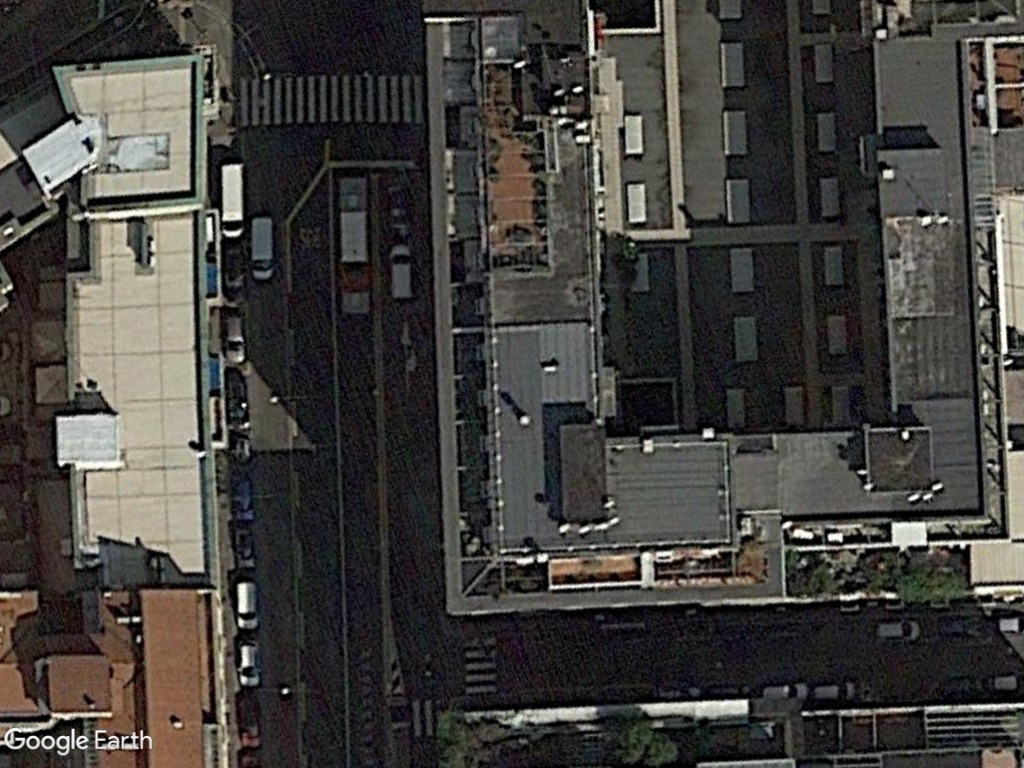bus: (329, 170, 378, 320)
car: (232, 574, 264, 637), (218, 309, 250, 369), (232, 638, 266, 691), (867, 618, 923, 647), (808, 678, 860, 707)
van: (215, 156, 251, 244), (382, 240, 420, 308), (246, 210, 278, 285)
